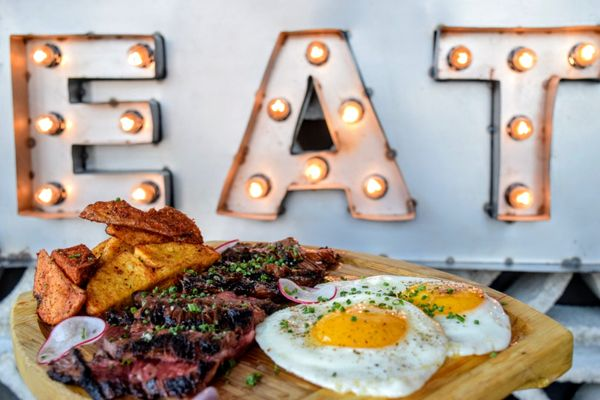sandwich: (3, 233, 585, 395), (253, 274, 571, 394)
